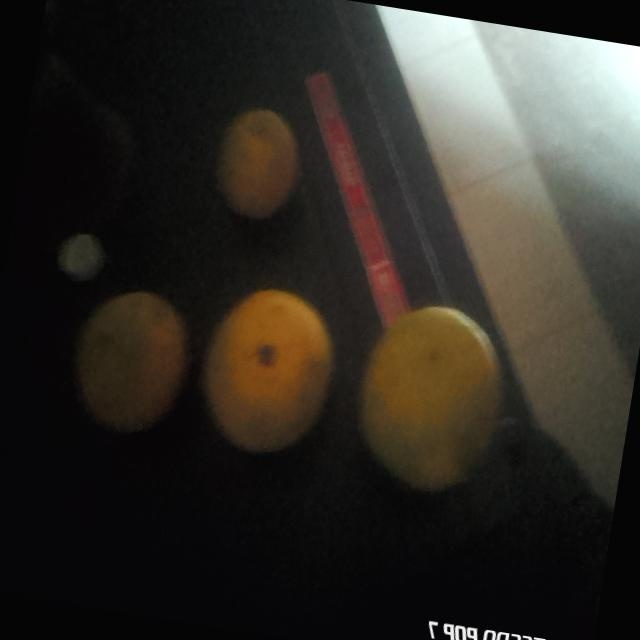agrume: (346, 290, 510, 486), (196, 283, 340, 461), (63, 281, 197, 439), (208, 98, 304, 218)
